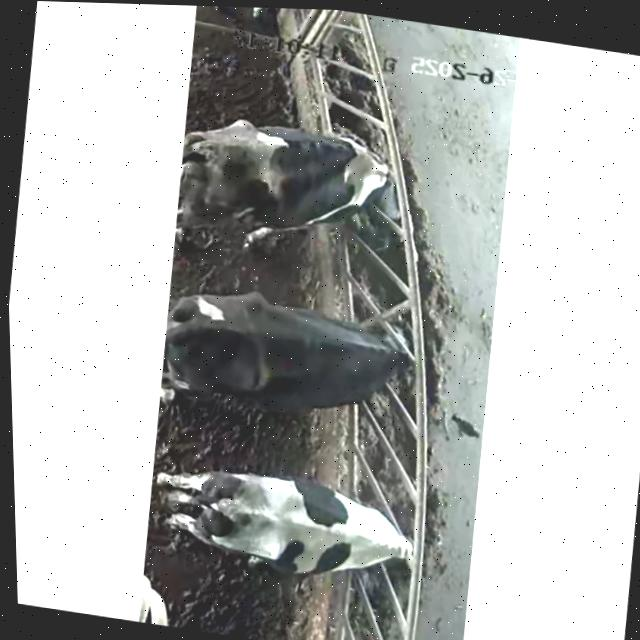eat: (247, 106, 475, 264), (274, 294, 466, 417), (292, 480, 461, 600)
